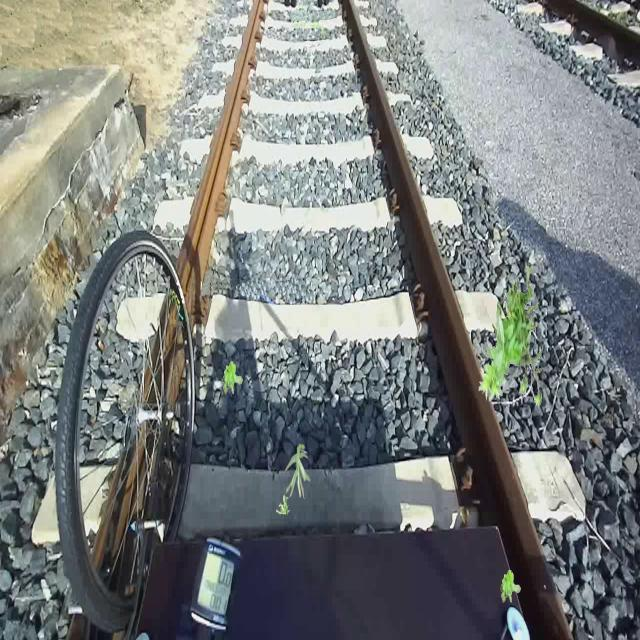Plant: (479, 265, 544, 408), (284, 443, 310, 500), (222, 361, 242, 394), (500, 570, 520, 603), (276, 494, 290, 514)
